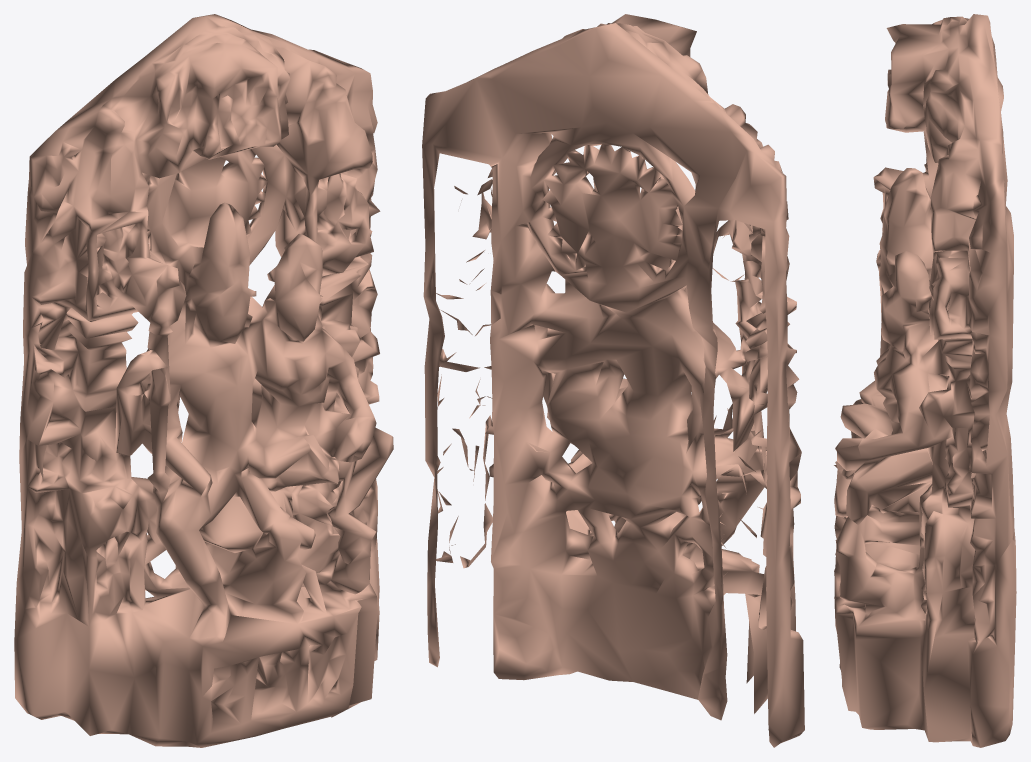
The model's file is wc-mia-uma-maheshvara.lod1.glb.
The picture shows the model from 3 angles, left to right: view 1: azimuth 30°, elevation 25°; view 2: azimuth 150°, elevation 25°; view 3: azimuth 270°, elevation 25°; orthographic projection. The views are drawn at different scales.
Visible parts, largest first — view 1: wc-mia-uma-maheshvara; view 2: wc-mia-uma-maheshvara; view 3: wc-mia-uma-maheshvara.
Boxes of the visible parts, left/top/right/bottom form: wc-mia-uma-maheshvara: left=14, top=14, right=393, bottom=747; wc-mia-uma-maheshvara: left=422, top=14, right=804, bottom=747; wc-mia-uma-maheshvara: left=834, top=14, right=1016, bottom=747.
Bounding box in the file's own units: 0.3299 × 0.5986 × 0.1486.
